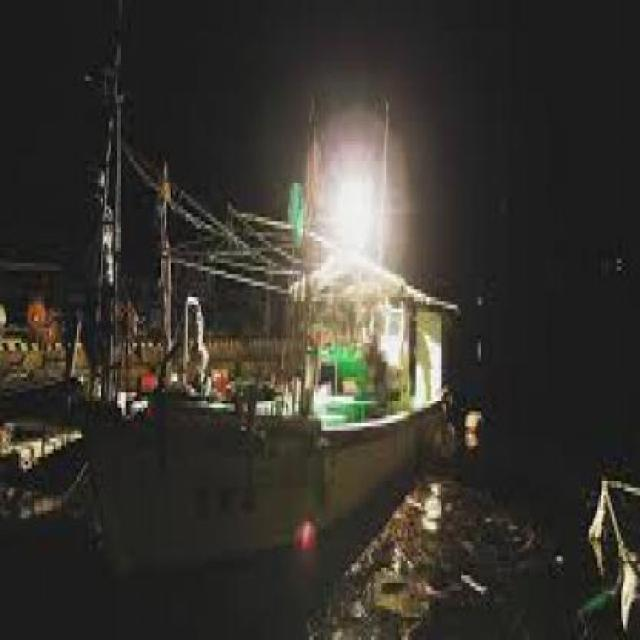fish-b: (60, 1, 479, 607)
